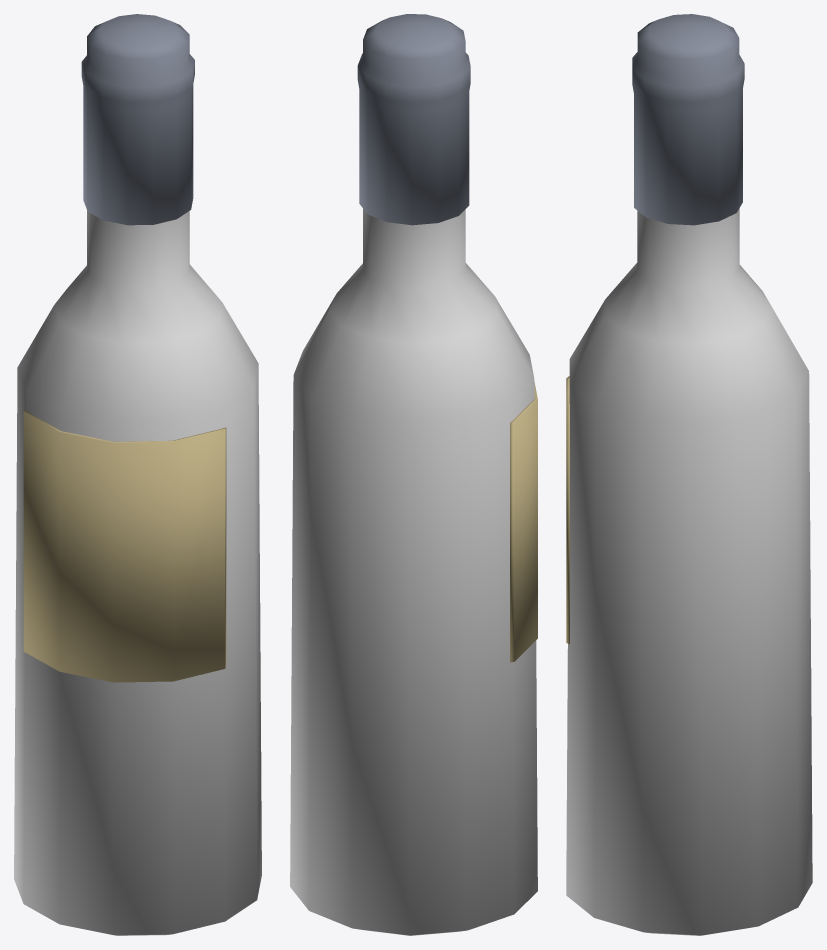
The model's file is Bordeuax.fbx.
3 views of the same model, side by side, from view 1: azimuth 30°, elevation 25°; view 2: azimuth 150°, elevation 25°; view 3: azimuth 270°, elevation 25° (orthographic).
Visible parts, largest first — view 1: Verre, Circle, Bouchon; view 2: Verre, Bouchon, Circle; view 3: Verre, Bouchon, Circle.
Part boxes in pixels (bbox=[...]): Verre: bbox=[14, 210, 261, 935]; Circle: bbox=[23, 410, 226, 682]; Bouchon: bbox=[81, 14, 194, 225]; Verre: bbox=[290, 209, 537, 935]; Bouchon: bbox=[357, 14, 470, 225]; Circle: bbox=[510, 383, 537, 662]; Verre: bbox=[566, 208, 812, 935]; Bouchon: bbox=[632, 14, 744, 225]; Circle: bbox=[566, 376, 569, 644].
Bounding box in the file's own units: 199 × 766 × 197.
